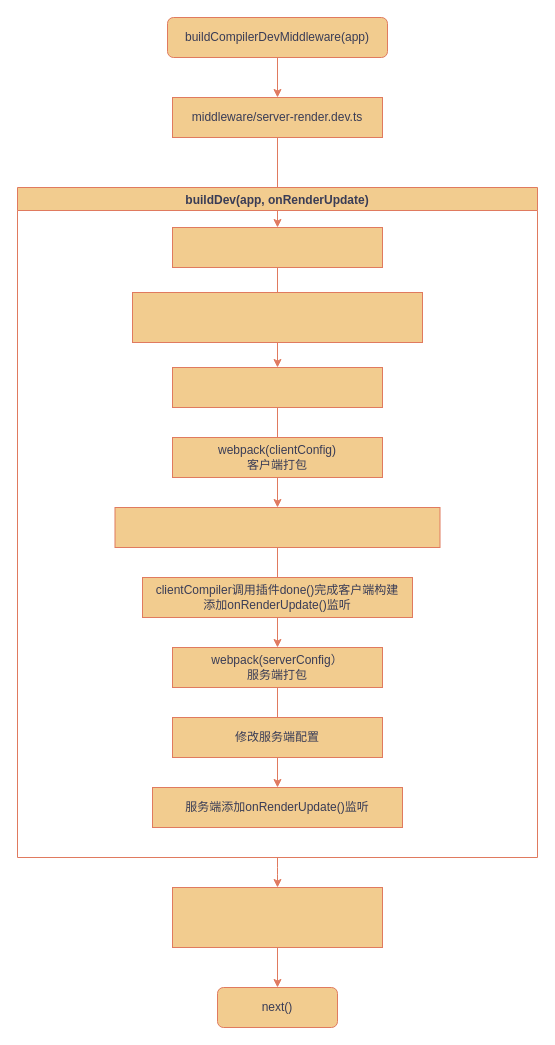
The diagram is 555 pixels wide and 1045 high, and some of its shapes have lost their labels. Each missing label, with the box of its shape:
clientDevBuild添加DevMiddleware | HotMiddleware中间件: (114, 506, 440, 548)
configBuilder() 调用pc-live/buildConfig/，获取config设置: (132, 292, 422, 342)
修改clientConfig配置: (172, 366, 382, 408)
将打包结果挂载到koa的context上 ctx.serverRender ctx.clientRender: (172, 886, 382, 948)
打开dev/build-dev.ts文件: (172, 226, 382, 268)
